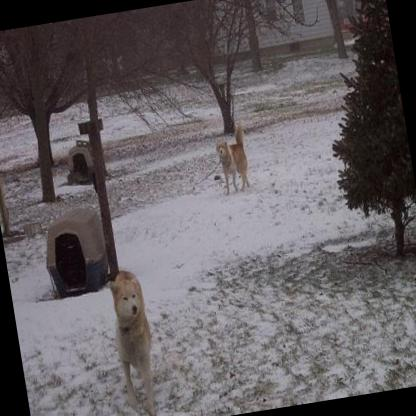Siberian_husky: (103, 264, 164, 416), (209, 120, 256, 192)
